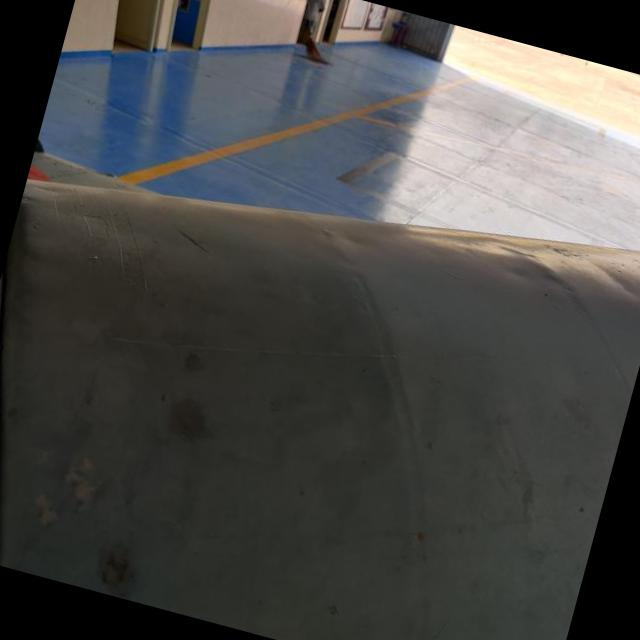Scratch: (91, 328, 476, 366)
